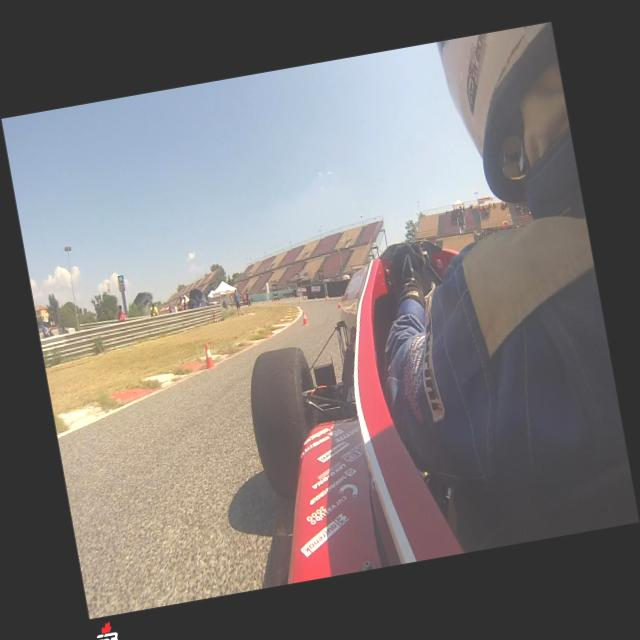orange_cone: (202, 342, 214, 368), (300, 312, 308, 324), (336, 300, 341, 308), (324, 295, 328, 301), (340, 294, 343, 299)
yellow_cone: (314, 294, 317, 300)
